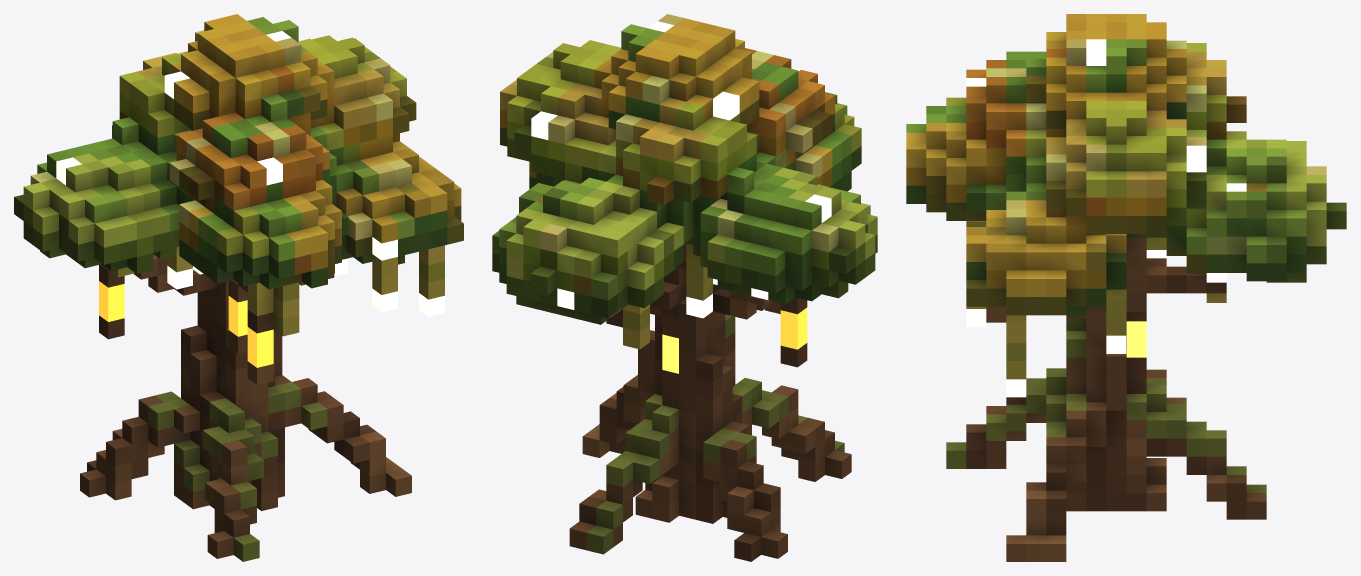
File: tree-fairy-m.glb
The picture shows the model from 3 angles, left to right: view 1: azimuth 30°, elevation 25°; view 2: azimuth 150°, elevation 25°; view 3: azimuth 270°, elevation 25°; orthographic projection. The views are drawn at different scales.
Parts seen in each view (by area): view 1: TREE_FAIRY_M__details; view 2: TREE_FAIRY_M__details; view 3: TREE_FAIRY_M__details.
Boxes of the visible parts, x1,y1,x2,y2 form: TREE_FAIRY_M__details: [14, 14, 463, 561]; TREE_FAIRY_M__details: [492, 14, 877, 561]; TREE_FAIRY_M__details: [906, 14, 1346, 561].
Bounding box in the file's own units: 1.69 × 2 × 1.69.
